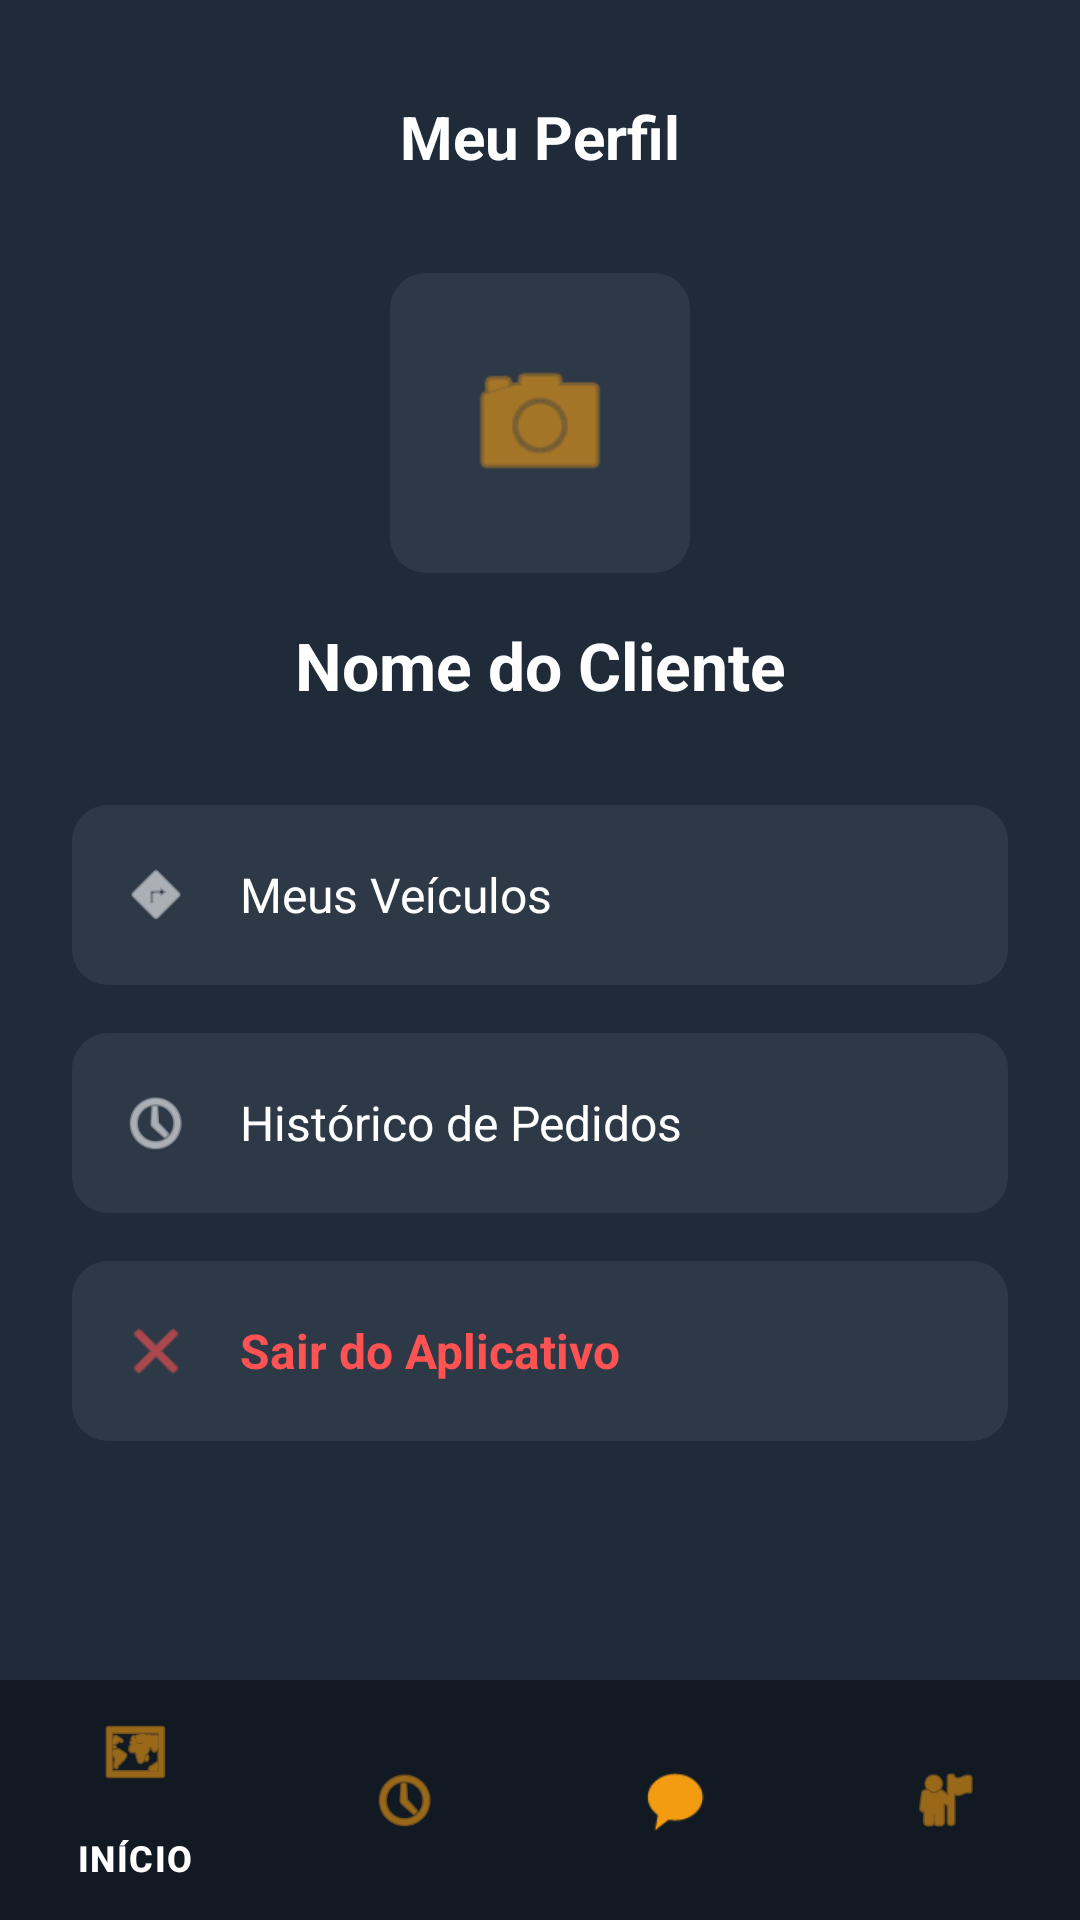

Named icons in this screenshot (1080px x 1920px) and their bounding boxes, Rect(x1, y1, x2, y2):
camera: Rect(479, 372, 601, 469)
close clear cancel: Rect(133, 1328, 179, 1374)
directions: Rect(131, 870, 181, 919)
recent history: Rect(130, 1097, 182, 1149)
